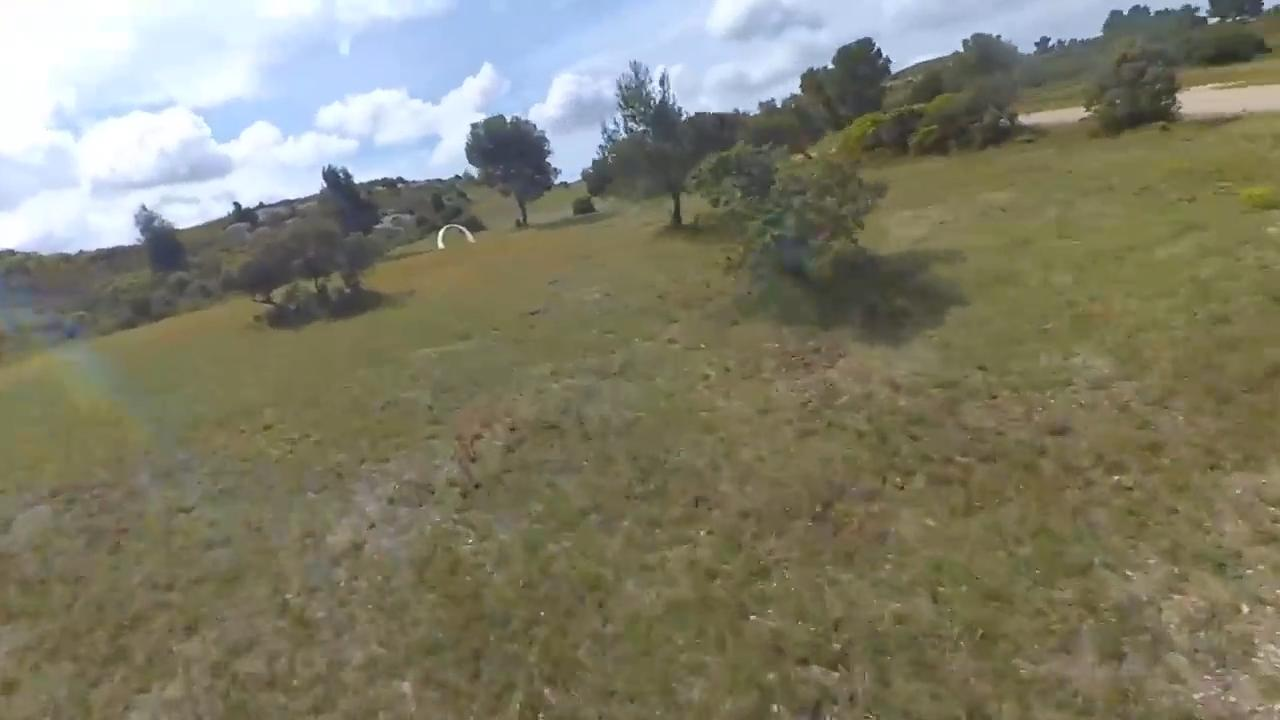gate: (434, 223, 474, 253)
